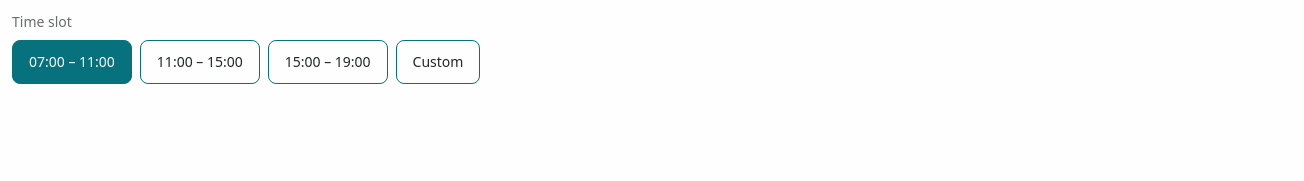
Test: [UI-02][AC-03] TimeSlotChips custom slot › offers the three preset slots and hides the custom inputs again when one is chosen
expect the radio button labelled "11:00 – 15:00" is shown: met, box [140,40,260,84]
expect the radio button labelled "15:00 – 19:00" is shown: met, box [268,40,388,84]
Click the radio button labelled "Custom" at (438, 62), box [396,40,480,84]
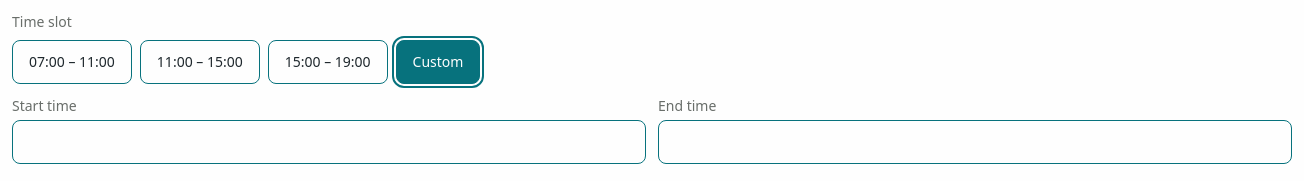
expect the field labelled "Start time" is shown: met, box [12,120,646,164]
Click the radio button labelled "11:00 – 15:00" at (200, 62), box [140,40,260,84]
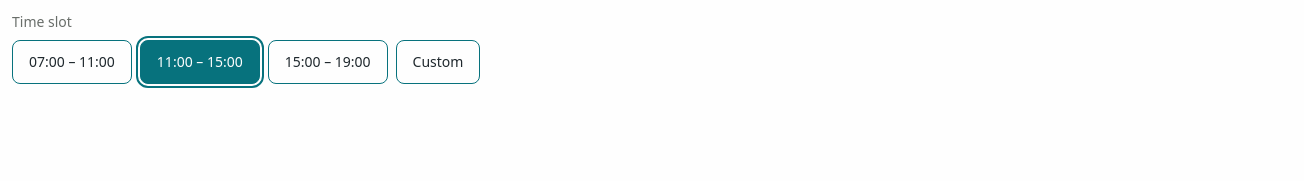
expect the label labelled "Start time" is gone: met
